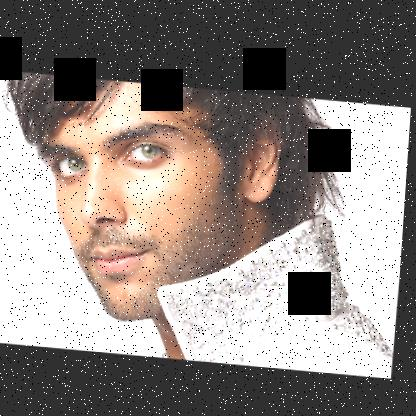Male: (28, 72, 285, 327)
